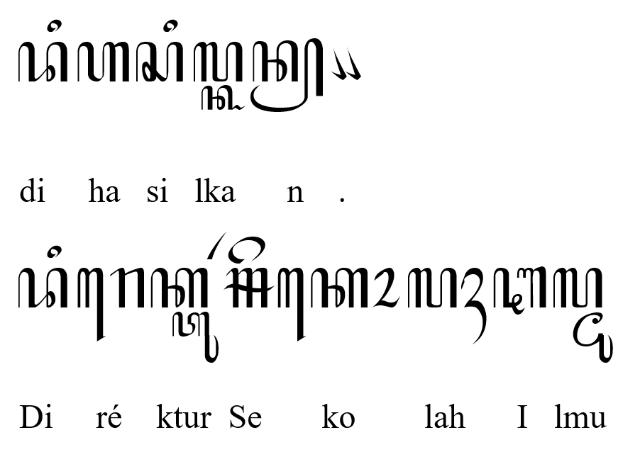-n: (249, 37, 325, 113)
I: (493, 265, 547, 315)
S: (222, 268, 274, 308)
_h1: (461, 268, 487, 346)
_k: (201, 84, 247, 112)
_mu: (572, 312, 614, 364)
_r1: (207, 230, 226, 259)
d: (18, 267, 68, 309), (18, 41, 68, 82)
e: (228, 236, 266, 264)
e1: (76, 267, 105, 343), (278, 268, 306, 342)
h: (76, 43, 130, 84)
i: (46, 18, 62, 34), (162, 19, 178, 33), (46, 245, 62, 259)
k: (310, 267, 368, 309), (150, 268, 208, 309)
kom: (329, 48, 346, 80), (346, 48, 360, 80)
l: (192, 41, 244, 83), (552, 267, 604, 309), (407, 267, 457, 309)
o: (371, 266, 401, 308)
r: (110, 268, 144, 309)
s: (135, 40, 185, 82)
tu: (172, 310, 218, 364)
